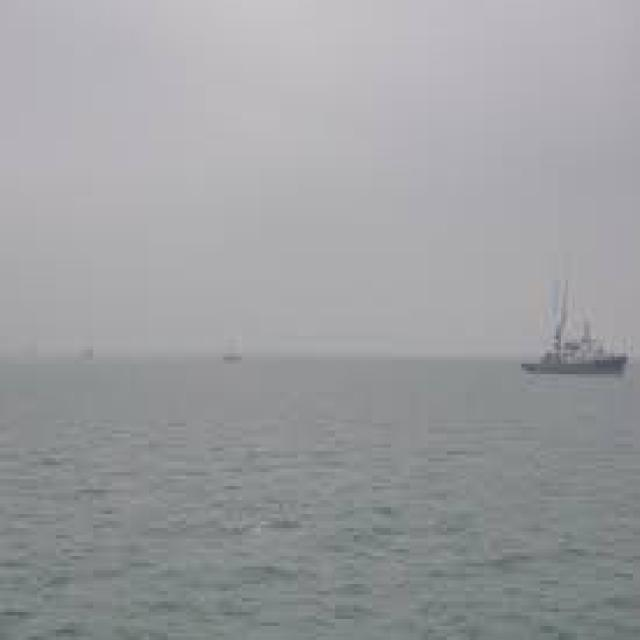cargoship: (520, 315, 630, 376)
